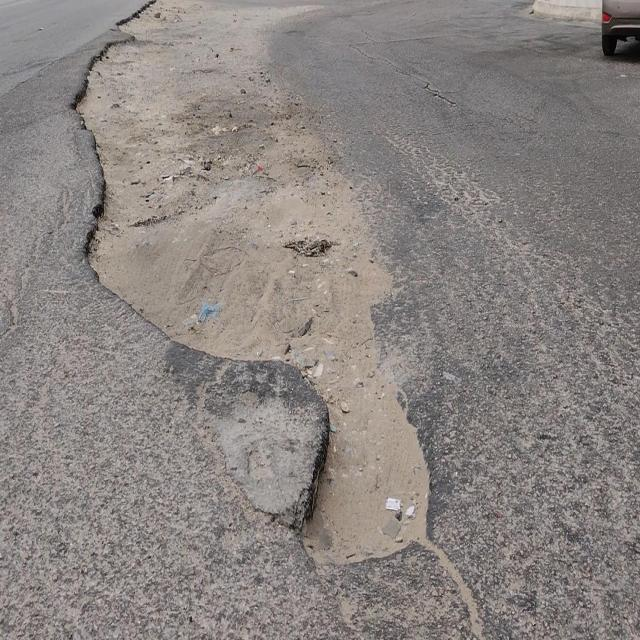Pothole: (289, 372, 435, 576), (82, 177, 162, 284), (65, 62, 123, 131), (98, 35, 141, 65)
